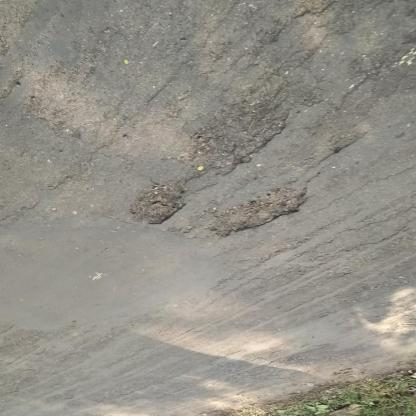pothole: (186, 99, 292, 177), (207, 188, 311, 241), (128, 180, 189, 228)
